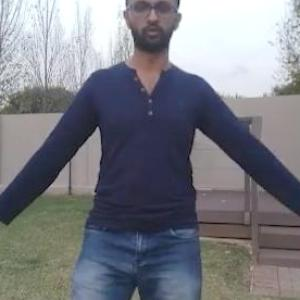land: (12, 0, 285, 299)
